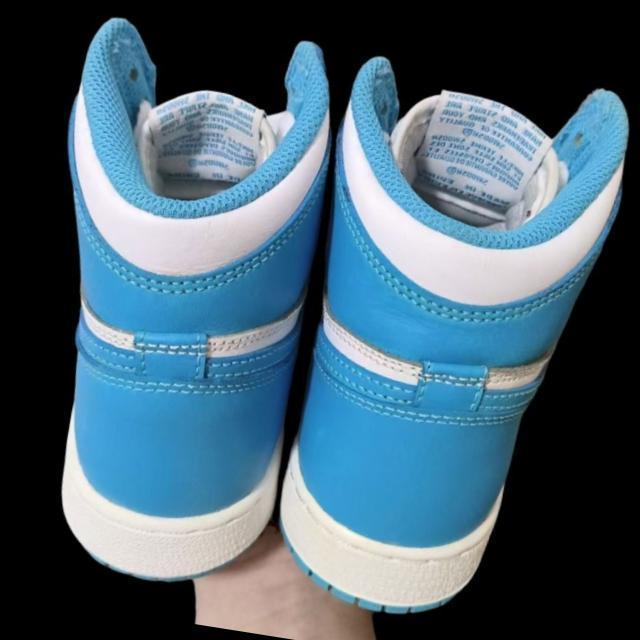nike original jordan 1: (260, 47, 640, 640), (0, 5, 354, 603)
